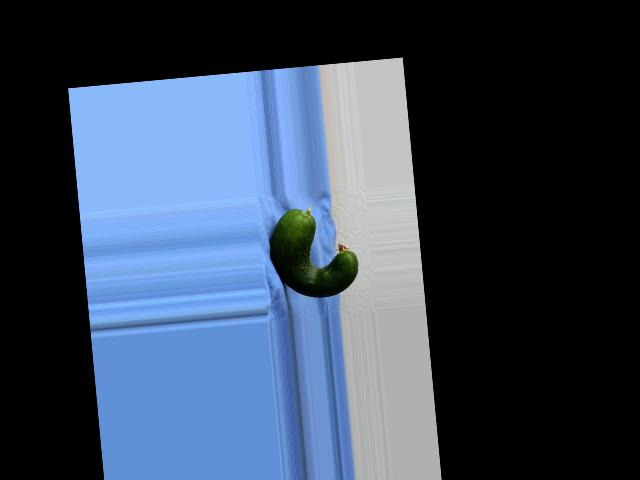cucumber: (267, 203, 360, 301)
